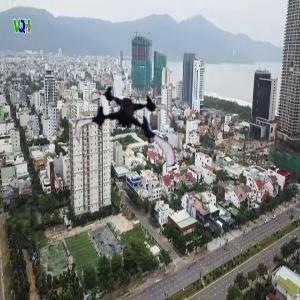drone: (73, 72, 177, 176)
